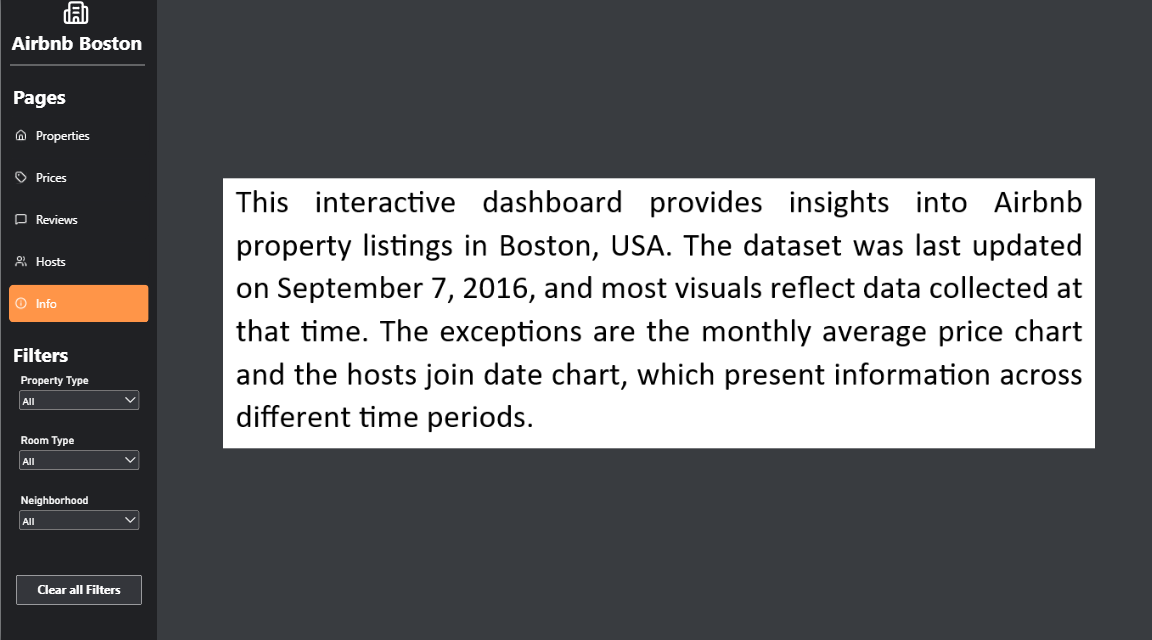

The page's visual inventory and layout, read from the dashboard file:
{"tool":"powerbi","page":{"name":"Info","canvas":[1920,1080],"ordinal":4},"visuals":[{"type":"shape","box":[0,0,260,1080],"z":0,"group":"g1"},{"type":"image","box":[370.4,302.4,1453.6,452.5],"z":0},{"type":"group","id":"g1","title":"Group 1","box":[0,0,260,1080],"z":1000},{"type":"slicer","fields":{"Values":["listings.property_type"]},"box":[25,630,210,70],"z":2000,"group":"g1"},{"type":"slicer","fields":{"Values":["listings.room_type"]},"box":[25,730,210,70],"z":3000,"group":"g1"},{"type":"slicer","fields":{"Values":["listings.neighbourhood_cleansed"]},"box":[25,830,210,70],"z":4000,"group":"g1"},{"type":"textbox","box":[20,145,100,50],"z":7000,"group":"g1"},{"type":"shape","box":[15,95,225,40],"z":9000},{"type":"textbox","box":[20,575,110,50],"z":10000,"group":"g1"},{"type":"textbox","box":[17,55,230.6,45.3],"z":11000},{"type":"image","box":[50,5,150,45],"z":12000,"group":"g1"},{"type":"actionButton","box":[26,966,210,50],"z":13000,"group":"g1"},{"type":"actionButton","title":"Overview Button","box":[13,200,235,65],"z":13500,"group":"g1"},{"type":"actionButton","box":[13,270,235,65],"z":14000,"group":"g1"},{"type":"actionButton","box":[13,480,235,65],"z":14250,"group":"g1"},{"type":"actionButton","box":[13,340,235,65],"z":14500,"group":"g1"},{"type":"actionButton","box":[13,410,235,65],"z":15000,"group":"g1"}]}

Visuals, with their boxes on the page's 1920x1080 design canvas (x1, y1, x2, y2). These are canvas units, not pixel positions in the 1152x640 screenshot, which may show the page scaled, cropped or inside an application window:
shape: [left=0, top=0, right=260, bottom=1080]
image: [left=370, top=302, right=1824, bottom=755]
"Group 1" group: [left=0, top=0, right=260, bottom=1080]
slicer - listings.property_type: [left=25, top=630, right=235, bottom=700]
slicer - listings.room_type: [left=25, top=730, right=235, bottom=800]
slicer - listings.neighbourhood_cleansed: [left=25, top=830, right=235, bottom=900]
textbox: [left=20, top=145, right=120, bottom=195]
shape: [left=15, top=95, right=240, bottom=135]
textbox: [left=20, top=575, right=130, bottom=625]
textbox: [left=17, top=55, right=248, bottom=100]
image: [left=50, top=5, right=200, bottom=50]
actionButton: [left=26, top=966, right=236, bottom=1016]
"Overview Button" actionButton: [left=13, top=200, right=248, bottom=265]
actionButton: [left=13, top=270, right=248, bottom=335]
actionButton: [left=13, top=480, right=248, bottom=545]
actionButton: [left=13, top=340, right=248, bottom=405]
actionButton: [left=13, top=410, right=248, bottom=475]
